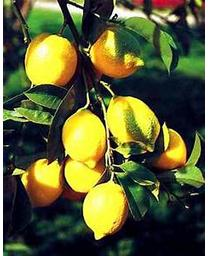lemon: (106, 96, 160, 148), (91, 29, 144, 80), (25, 32, 75, 86), (83, 183, 129, 240), (63, 111, 105, 165), (21, 157, 65, 207)
